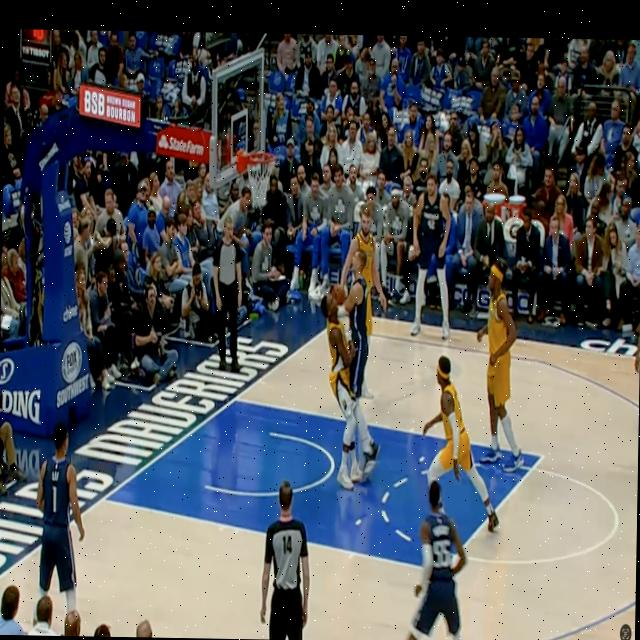foul: (306, 242, 386, 494)
no foul: (416, 255, 551, 538)
